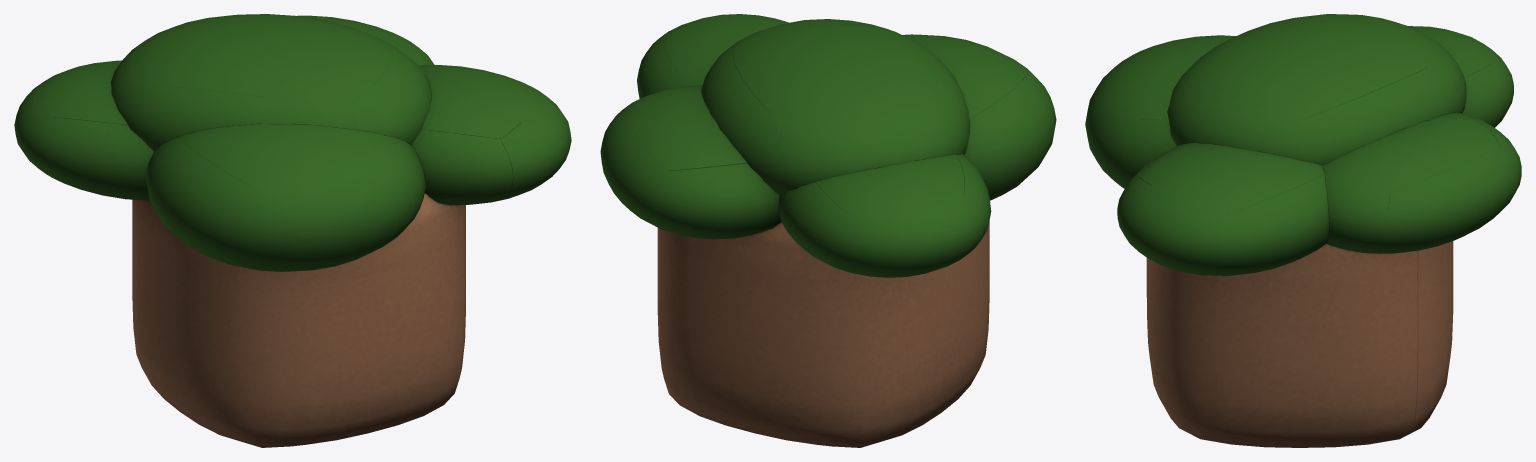
The model's file is tree.glb.
3 views of the same model, side by side, from view 1: azimuth 30°, elevation 25°; view 2: azimuth 150°, elevation 25°; view 3: azimuth 270°, elevation 25° (orthographic).
Parts seen in each view (by area): view 1: Cube.016; view 2: Cube.016; view 3: Cube.016.
Boxes of the visible parts, x1,y1,x2,y2 form: Cube.016: (14, 14, 571, 447); Cube.016: (600, 14, 1056, 447); Cube.016: (1085, 14, 1521, 447).
Bounding box in the file's own units: 1.51 × 1.21 × 1.35.
Materials: 2 (2 with a texture image).
